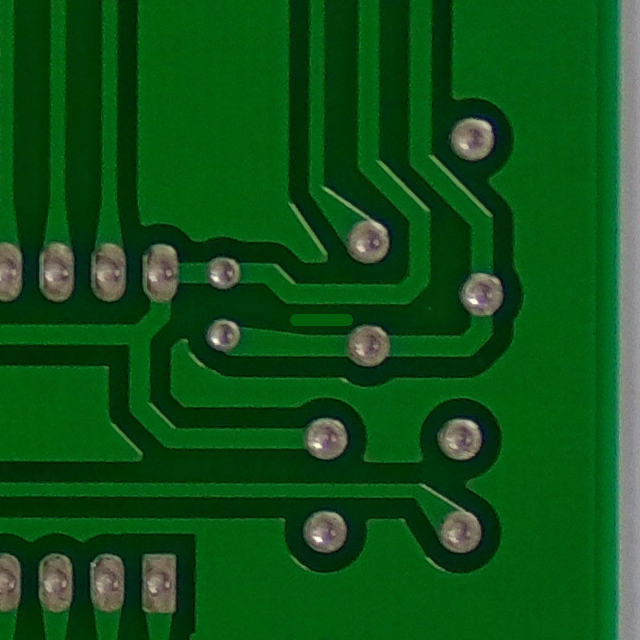spurious_copper: (272, 291, 368, 349)
